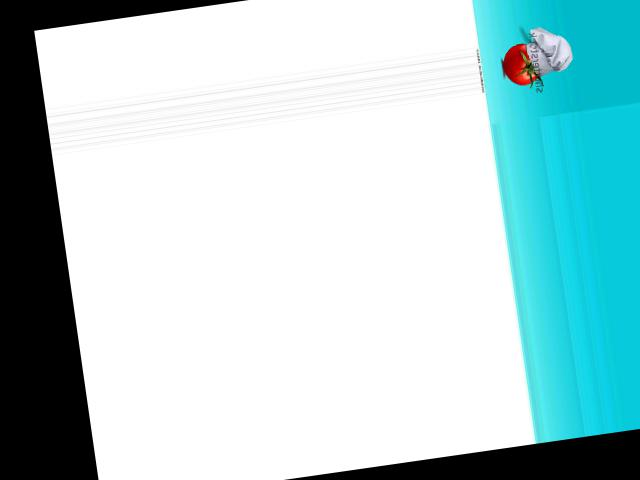tomato: (501, 41, 541, 86)
